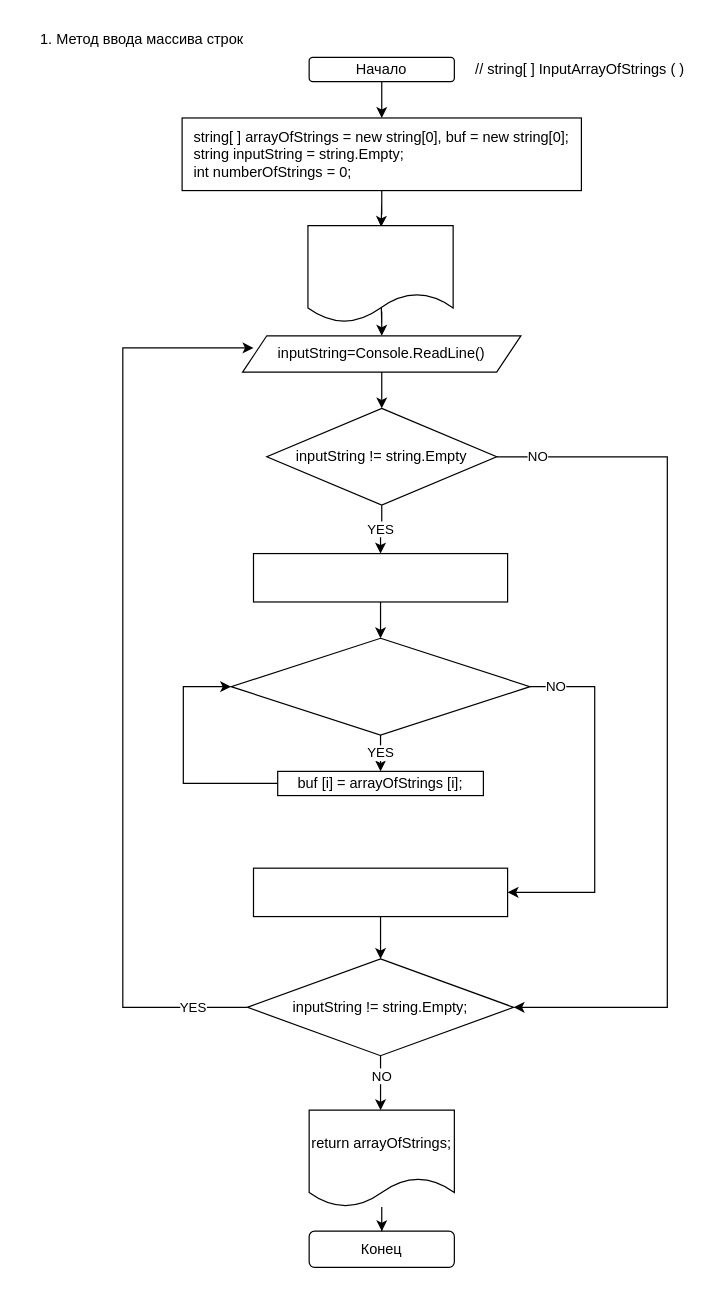
Some shapes in this 719 by 1289 pixel diagram are drawn without their labels. Here are the shapes that lost their labels. From the top down, the centre of each, then its label:
pixel 380 273: Введите строки. Для завершения введите пустую строку
pixel 380 577: numberOfStrings ++; buf = new string [numberOfStrings];
pixel 380 686: int i = 0; i < arrayOfStrings.Length; i++
pixel 380 892: buf [numberOfStrings-1] = inputString; arrayOfStrings = buf;
